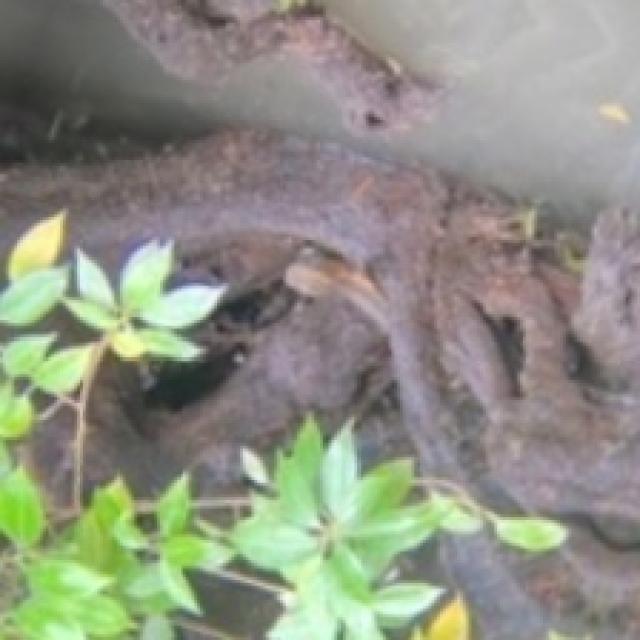king cobra: (0, 129, 637, 637), (174, 563, 280, 637)
